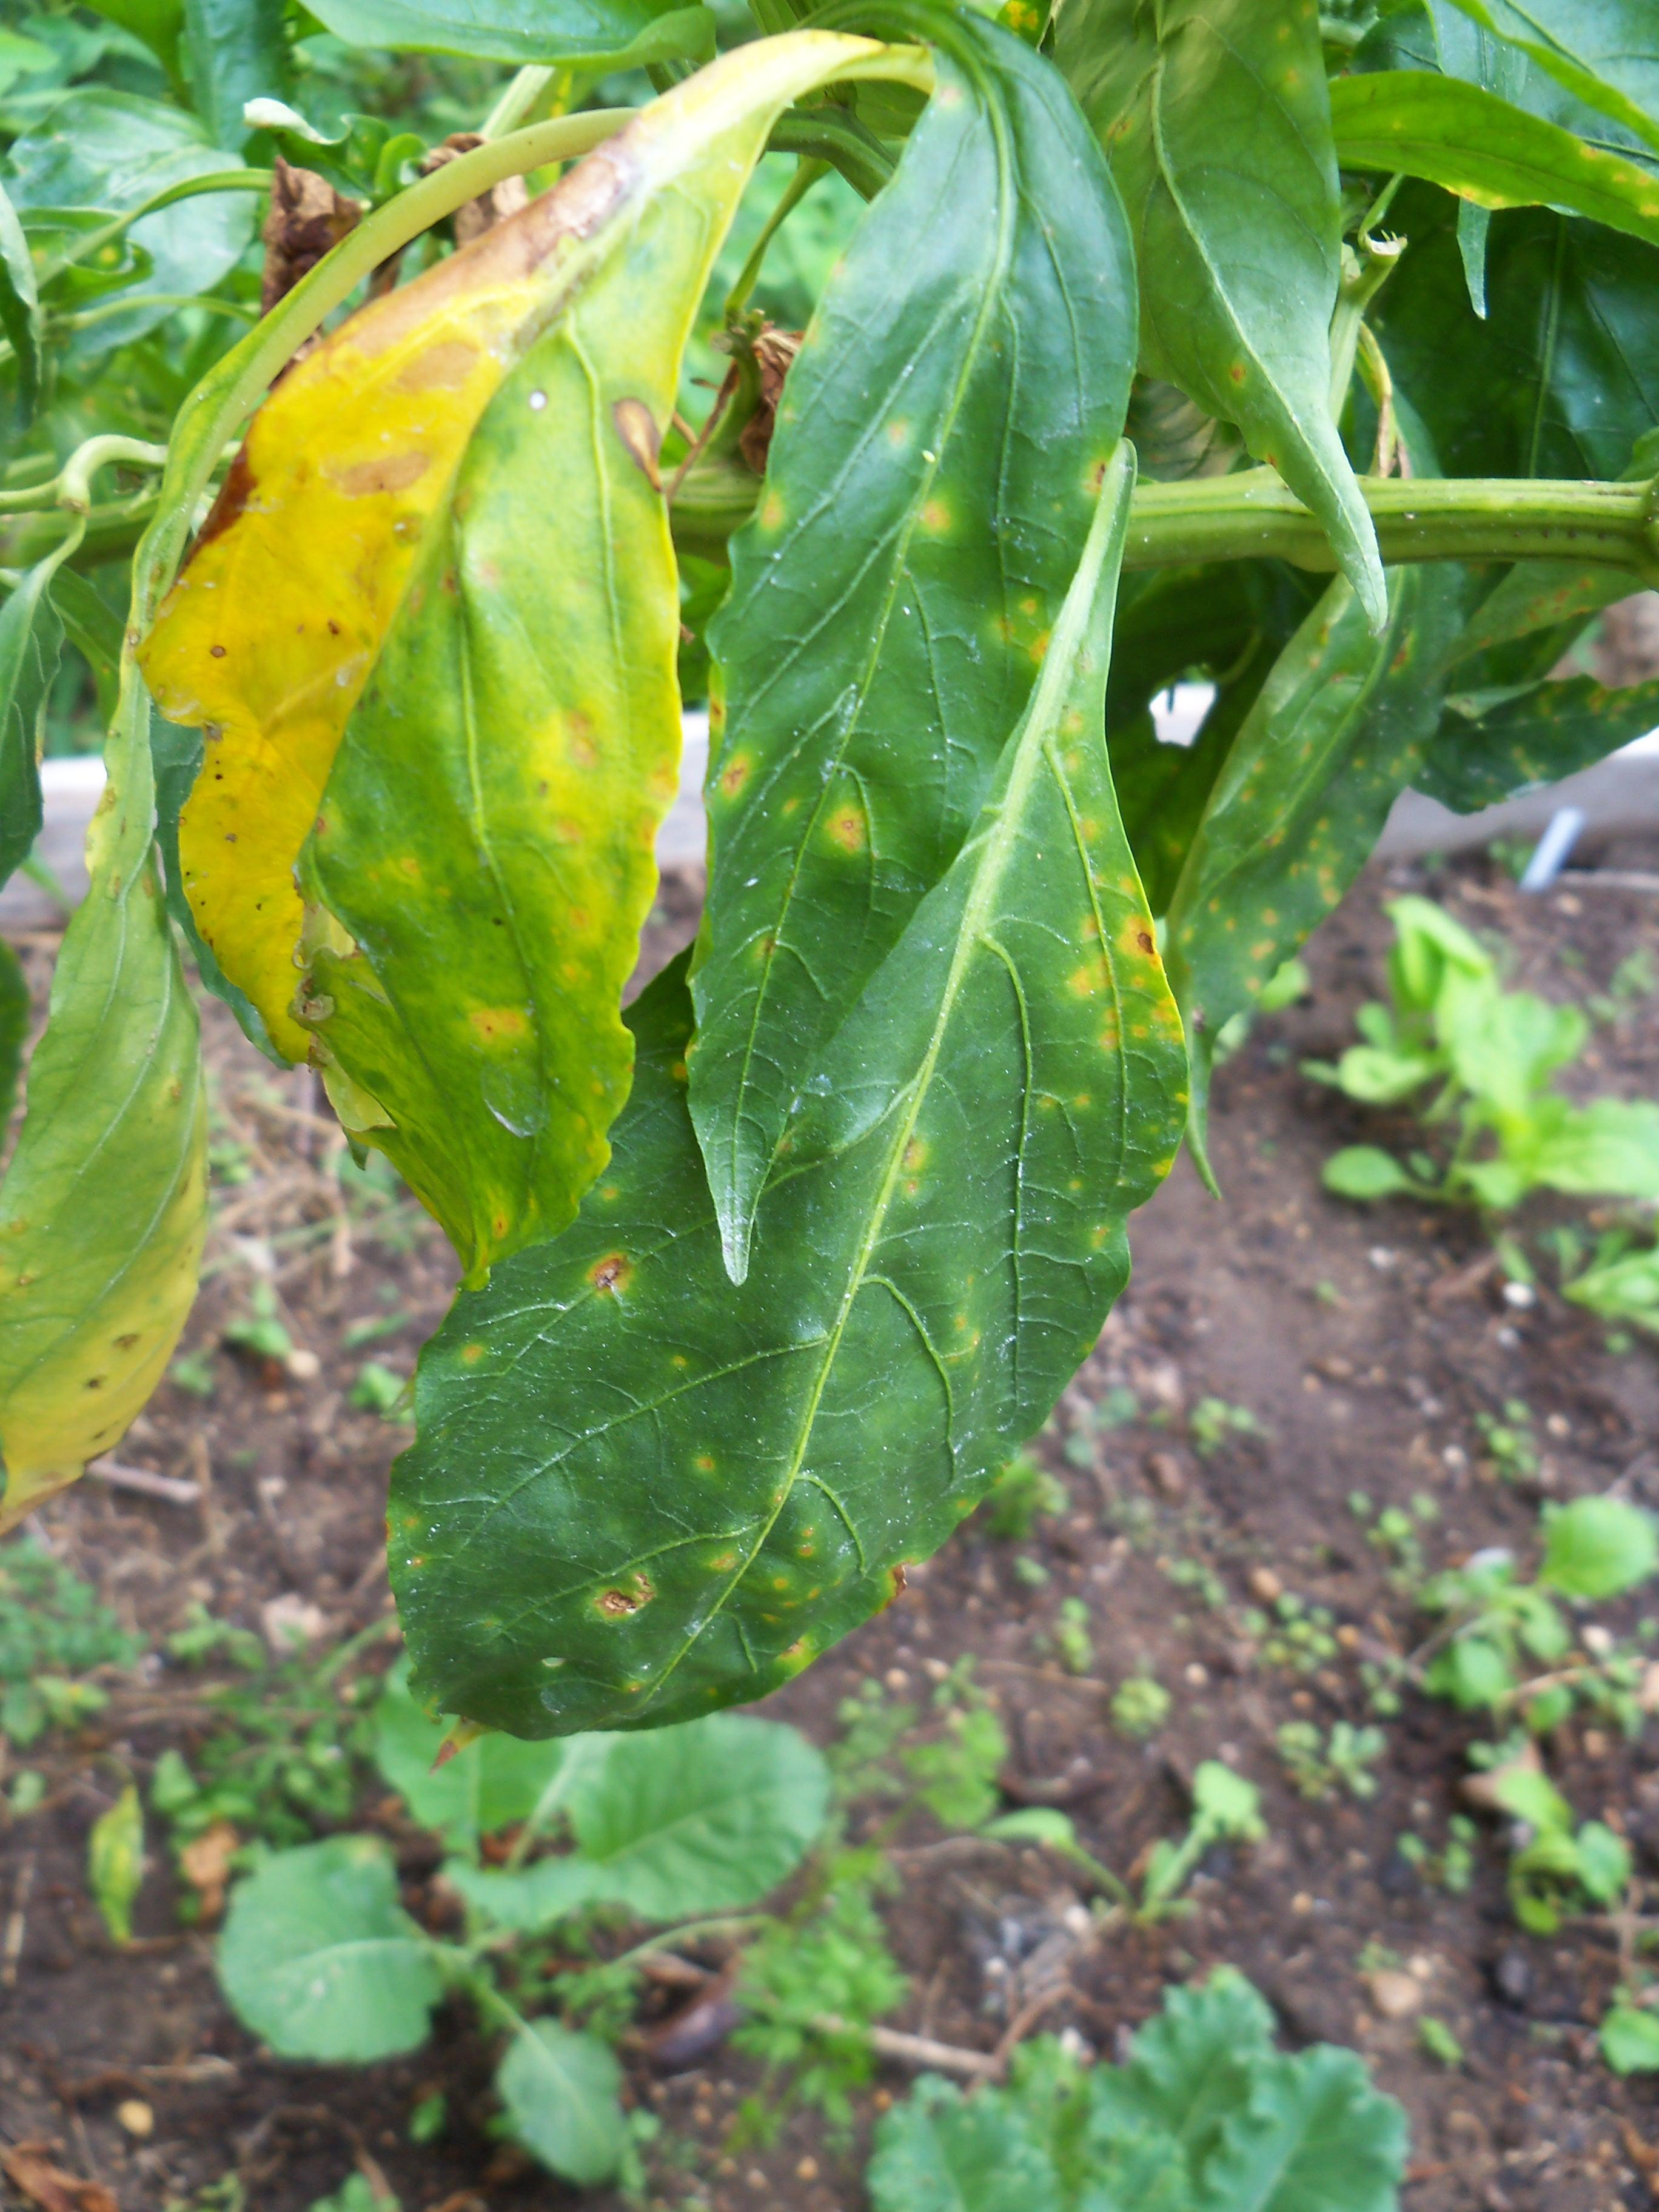Bell_pepper leaf: (122, 99, 767, 1338), (385, 862, 1201, 1761), (669, 42, 1138, 1312), (1169, 397, 1467, 1123)
